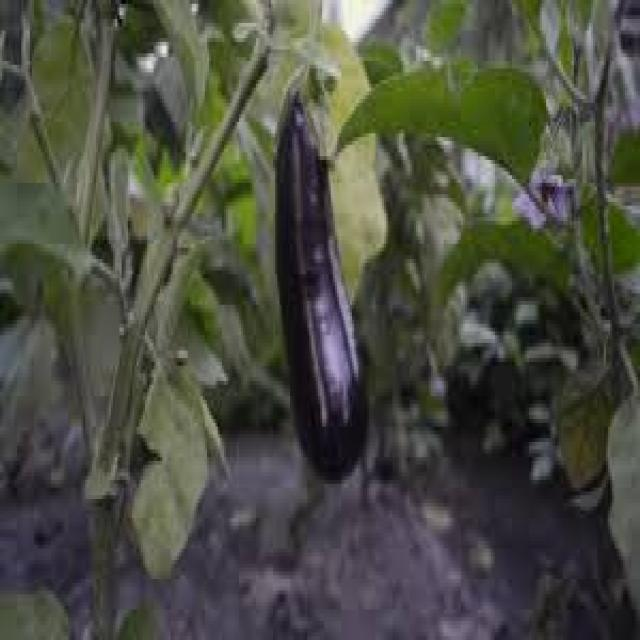Eggplant: (274, 42, 372, 484)
